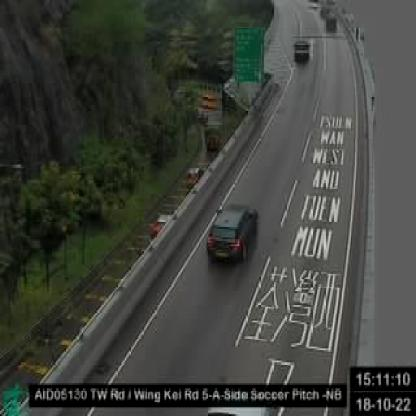Car: (206, 202, 260, 267), (294, 39, 310, 65)
